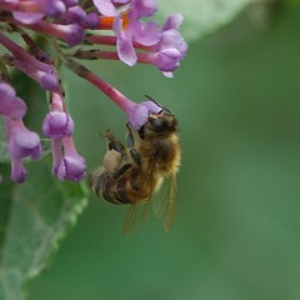bee: (88, 100, 190, 242)
